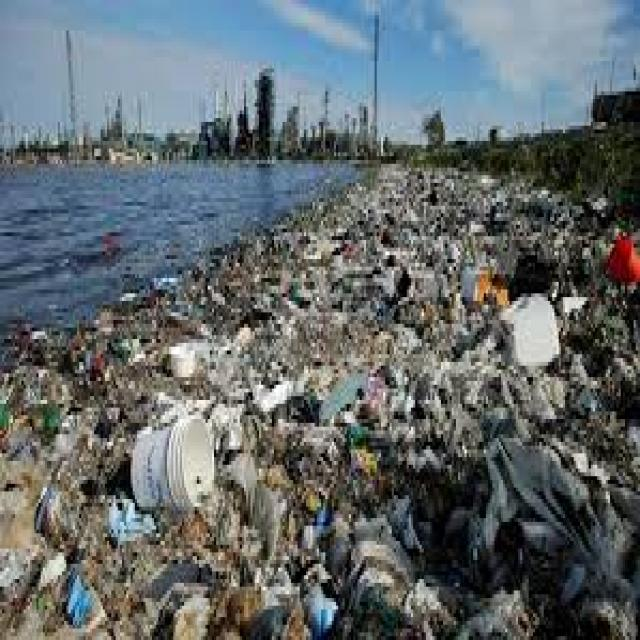heap: (341, 218, 624, 630)
